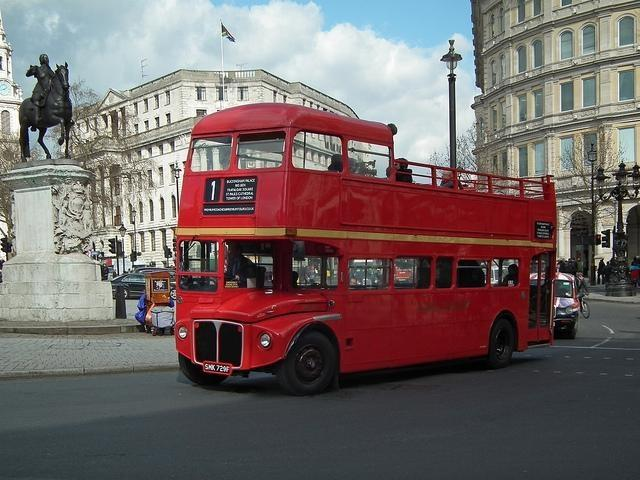bicycle: (574, 294, 590, 318)
bus: (174, 104, 562, 397)
car: (554, 273, 582, 339), (112, 272, 144, 299), (134, 268, 164, 274)
